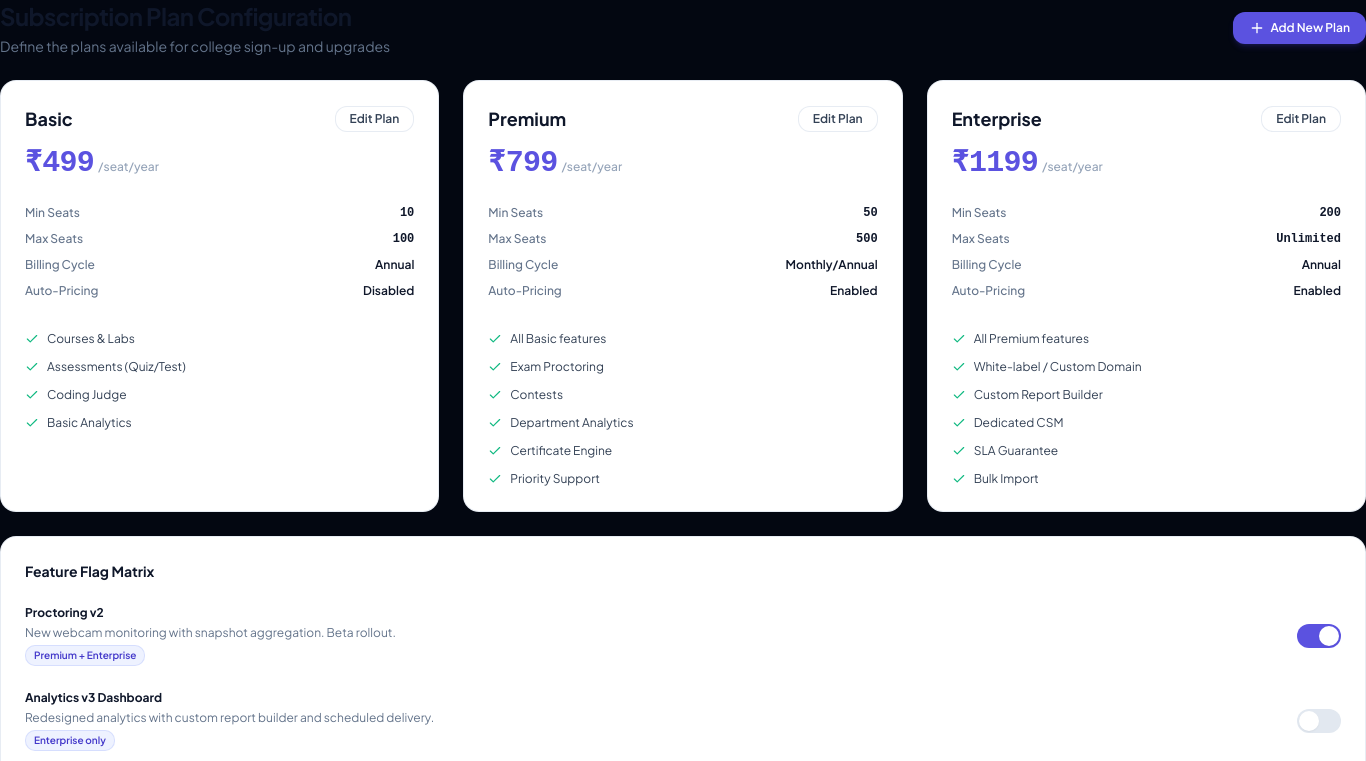
PlanConfigurationPage › opens Edit Plan modal and updates plan
Expected: the heading "Basic" is shown, [25,105,73,133]
Click edit on first plan
Click the 1st button titled "Edit Plan" at (374, 119), box [334,106,414,132]
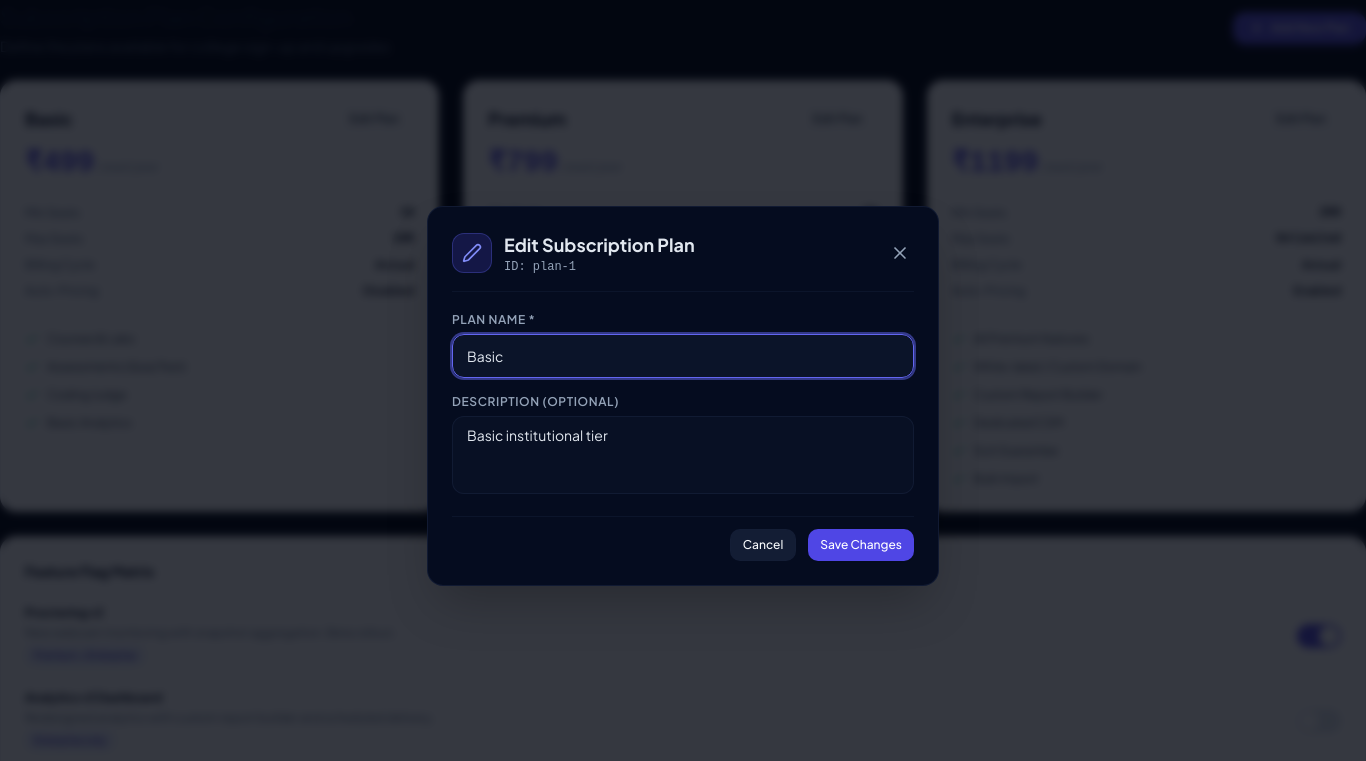
Result: the heading "Edit Subscription Plan" is shown at [504,231,695,259]
Replace the text in the field labelled "Plan Name *" with "Basic v2" at (683, 356), box [452,334,914,378]
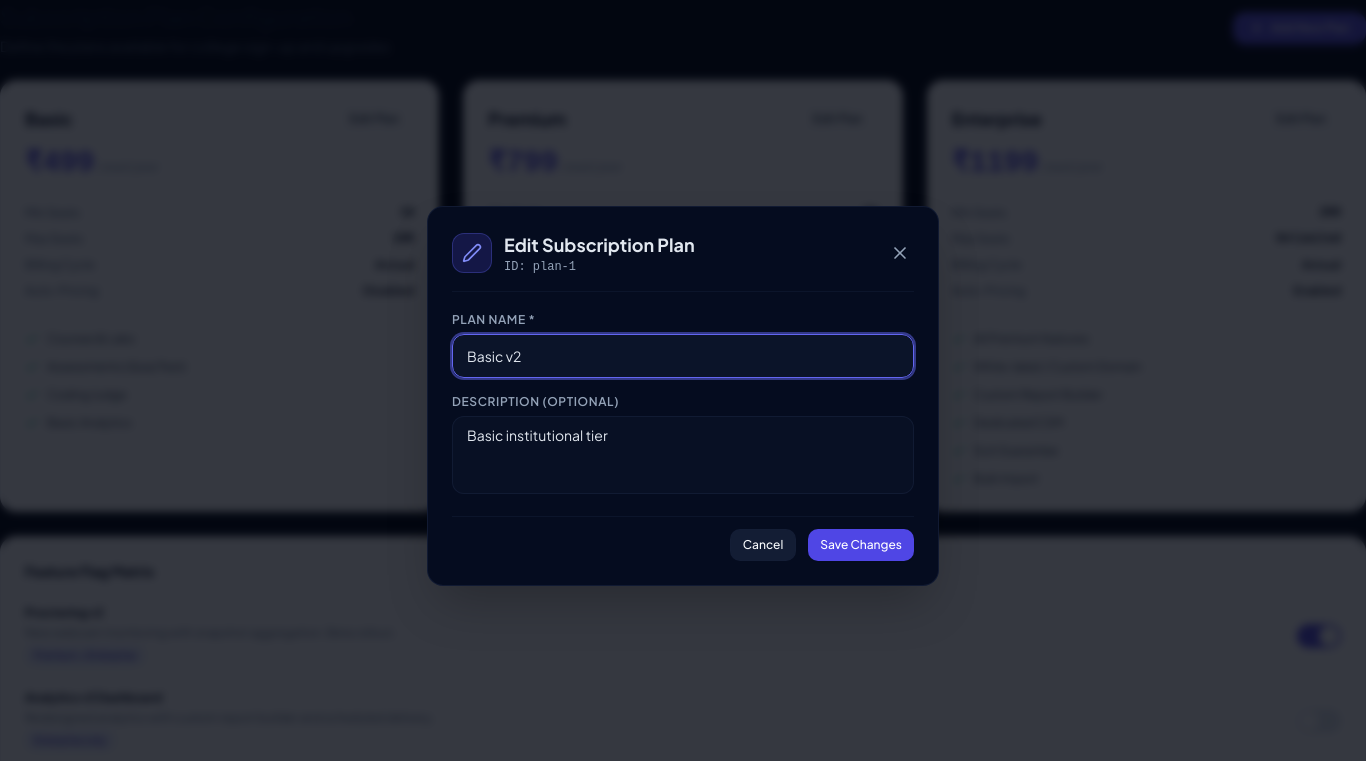
Click the button "Save Changes" at (861, 545), box [808,529,914,561]
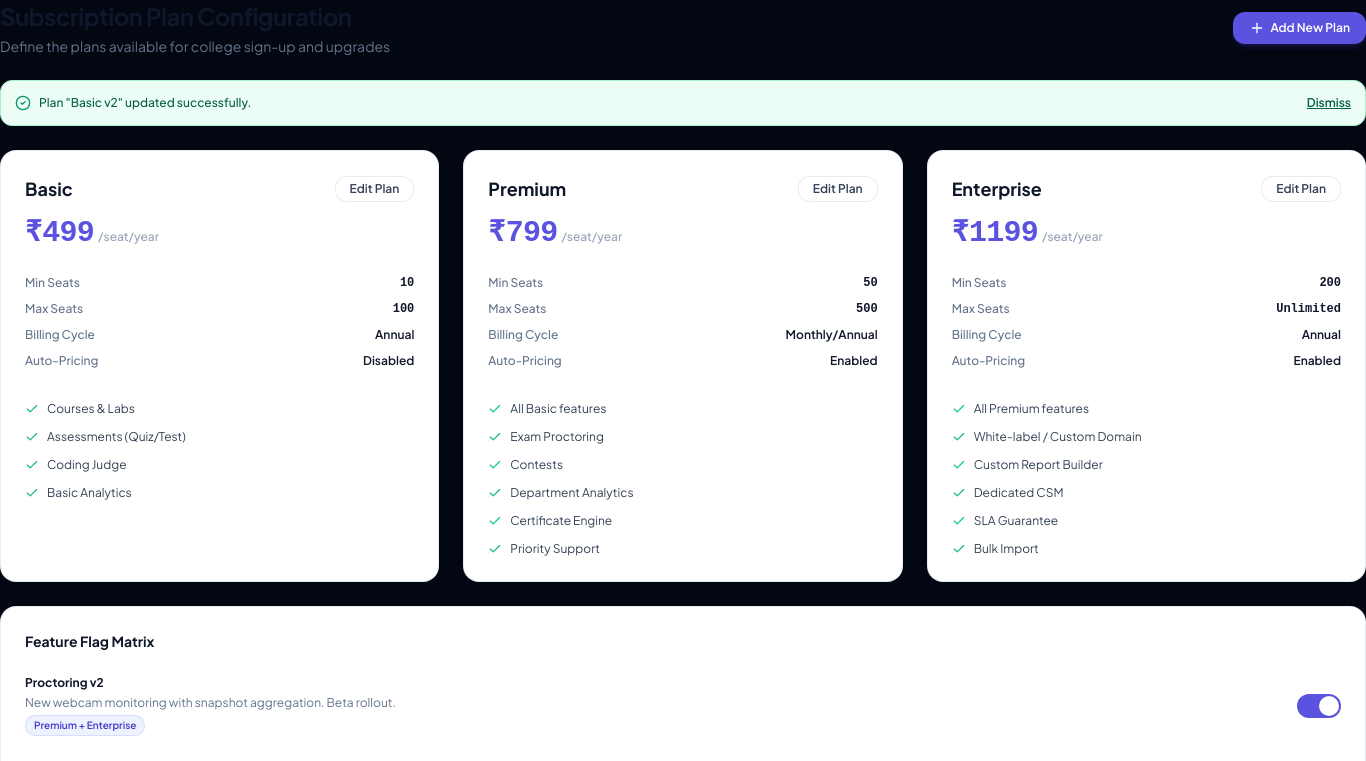
Result: the text "Plan \"Basic v2\" updated successfully." is shown at [39,95,251,111]
